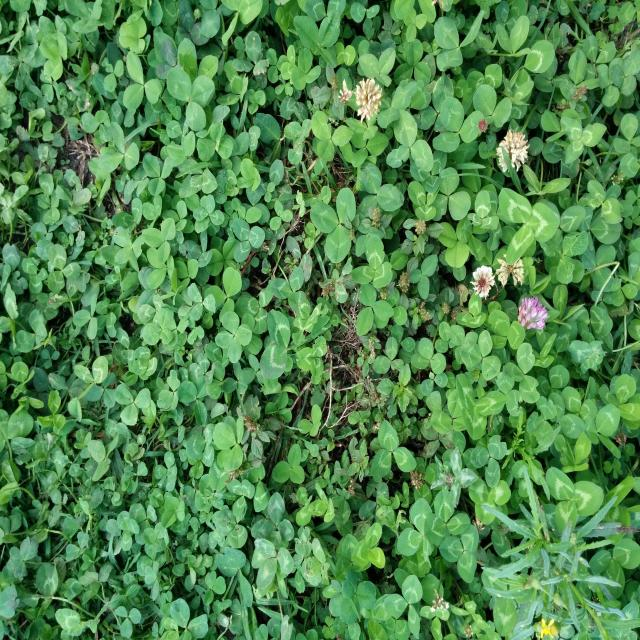Four Leaf Clover: (215, 311, 252, 363)
